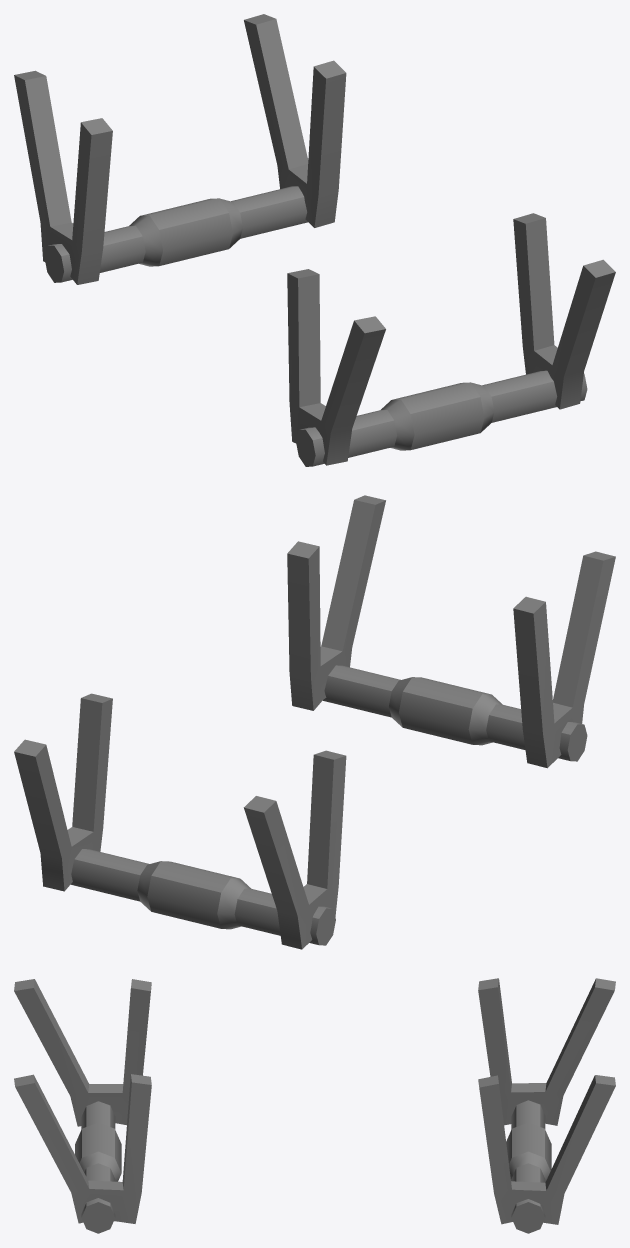
The model's file is MonsterTruckSuspension.fbx.
The picture shows the model from 3 angles, top to bottom: view 1: azimuth 30°, elevation 25°; view 2: azimuth 150°, elevation 25°; view 3: azimuth 270°, elevation 25°; orthographic projection. The views are drawn at different scales.
Visible parts, largest first — view 1: Suspension; view 2: Suspension; view 3: Suspension.
Part boxes in pixels (left/top/right/bottom): Suspension: left=14, top=14, right=615, bottom=466; Suspension: left=14, top=495, right=615, bottom=949; Suspension: left=14, top=978, right=615, bottom=1233.
Size of the model in its own units: 0.1357 by 0.085 by 0.3045.
